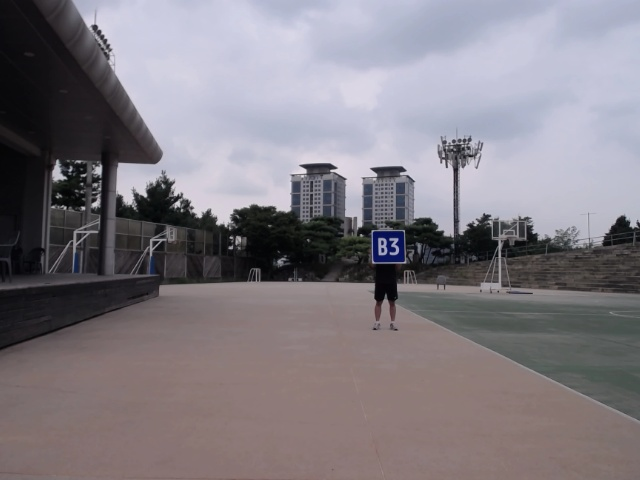delivery_b3: (370, 229, 408, 266)
